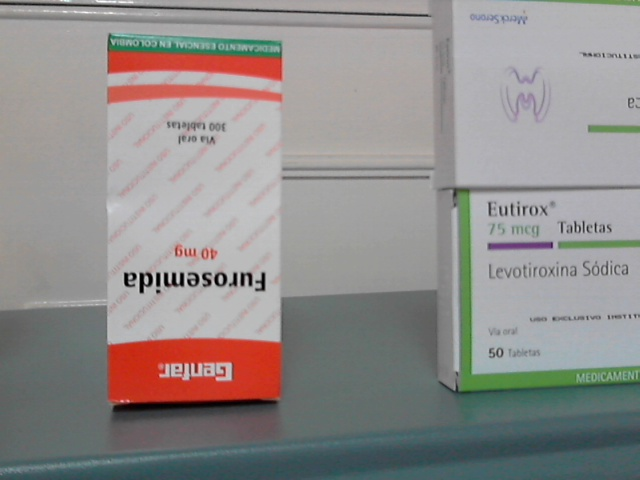Genfar: (108, 33, 280, 402)
